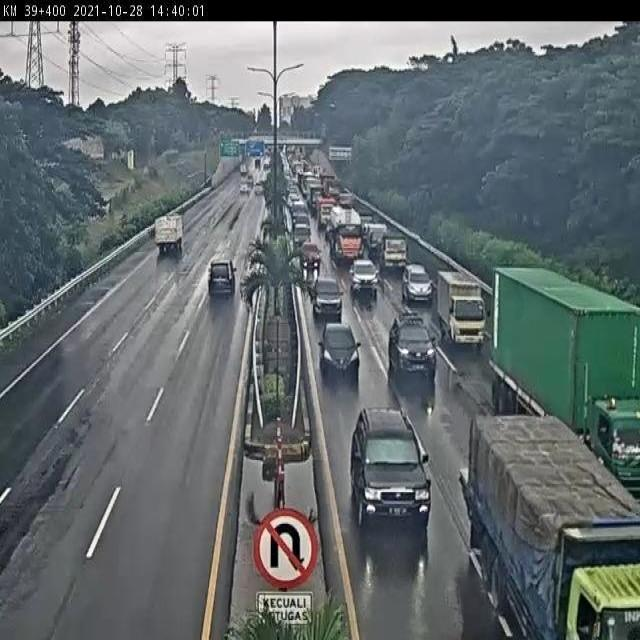Car: (348, 405, 431, 532), (387, 310, 439, 386), (318, 320, 362, 383), (311, 276, 344, 320), (349, 258, 380, 301), (401, 263, 433, 304), (208, 258, 236, 296)
Truck: (463, 411, 638, 640), (492, 266, 636, 458), (436, 269, 488, 350), (329, 208, 366, 267), (67, 285, 113, 330), (458, 459, 479, 556), (263, 314, 292, 378), (154, 214, 184, 258), (381, 236, 408, 274), (362, 222, 387, 260), (425, 242, 455, 271), (300, 241, 322, 275), (317, 199, 337, 231), (398, 304, 424, 328), (305, 178, 323, 212), (245, 119, 264, 150), (288, 254, 304, 289), (84, 284, 112, 304), (387, 322, 399, 368), (262, 195, 278, 229), (297, 170, 315, 200), (290, 196, 308, 226), (249, 277, 264, 312), (280, 155, 294, 192), (292, 219, 310, 247), (262, 454, 280, 482), (174, 255, 191, 284), (87, 202, 109, 224), (250, 260, 268, 286), (280, 132, 320, 143), (281, 202, 293, 237), (176, 160, 198, 179), (305, 268, 318, 298), (359, 215, 373, 238), (286, 191, 300, 214), (324, 220, 335, 248), (328, 183, 343, 203), (338, 191, 354, 209), (438, 314, 449, 340), (162, 149, 180, 164), (329, 148, 352, 159), (242, 290, 252, 314), (292, 162, 304, 181), (413, 236, 427, 252), (38, 160, 60, 170), (405, 229, 420, 243), (255, 173, 267, 189), (240, 181, 250, 195), (254, 183, 264, 197), (312, 165, 322, 179), (239, 141, 247, 158), (262, 155, 271, 170), (90, 153, 105, 161), (202, 176, 212, 188), (240, 162, 248, 176), (341, 187, 350, 199), (149, 225, 156, 240), (254, 156, 262, 169), (287, 146, 295, 158), (265, 146, 273, 158), (240, 175, 248, 187), (248, 175, 255, 188), (211, 124, 218, 136), (282, 146, 287, 158), (232, 263, 237, 271)
